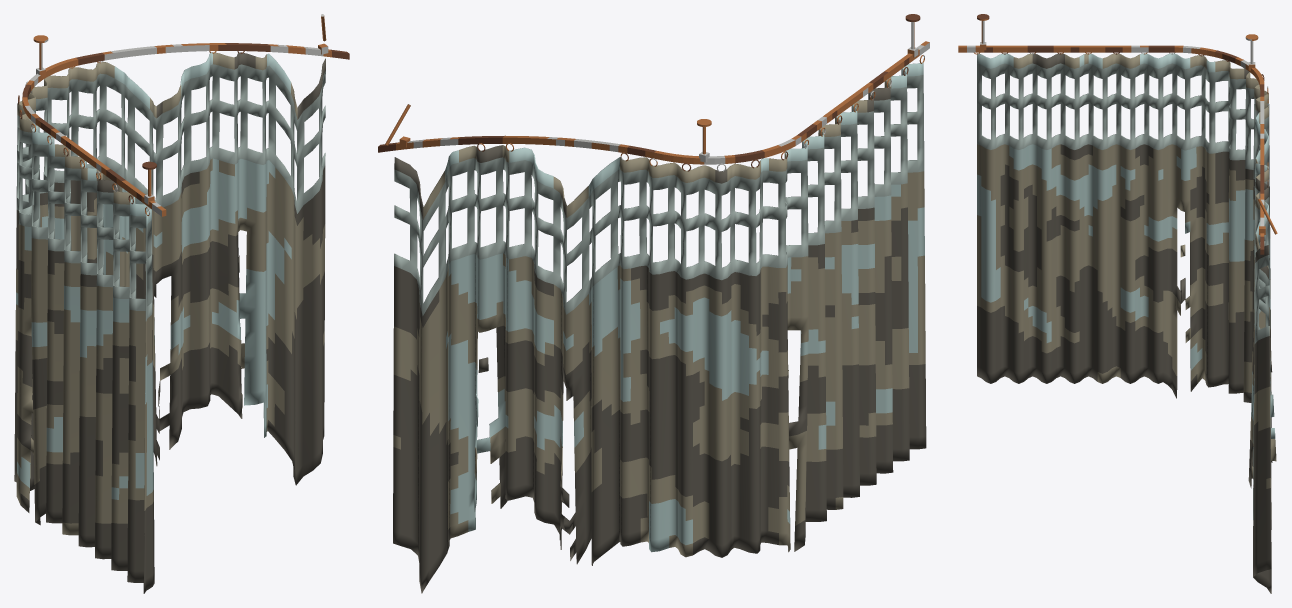
The model's file is Hospital_cutton_v2.fbx.
3 views of the same model, side by side, from view 1: azimuth 30°, elevation 25°; view 2: azimuth 150°, elevation 25°; view 3: azimuth 270°, elevation 25° (orthographic). The views are drawn at different scales.
Parts seen in each view (by area): view 1: 02_Curved_Damaged_Curtain; view 2: 02_Curved_Damaged_Curtain; view 3: 02_Curved_Damaged_Curtain.
Part boxes in pixels (left/top/right/bottom): 02_Curved_Damaged_Curtain: left=14, top=14, right=349, bottom=593; 02_Curved_Damaged_Curtain: left=378, top=14, right=929, bottom=593; 02_Curved_Damaged_Curtain: left=958, top=14, right=1277, bottom=593.
Size of the model in its own units: 205 by 275 by 179.
